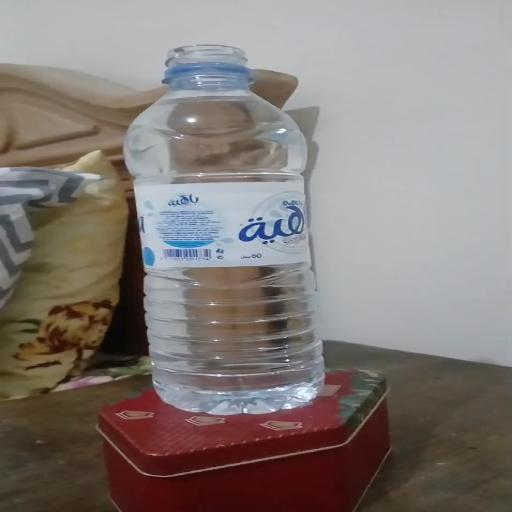bouteille non conformite: (91, 22, 342, 413), (141, 33, 265, 98)
